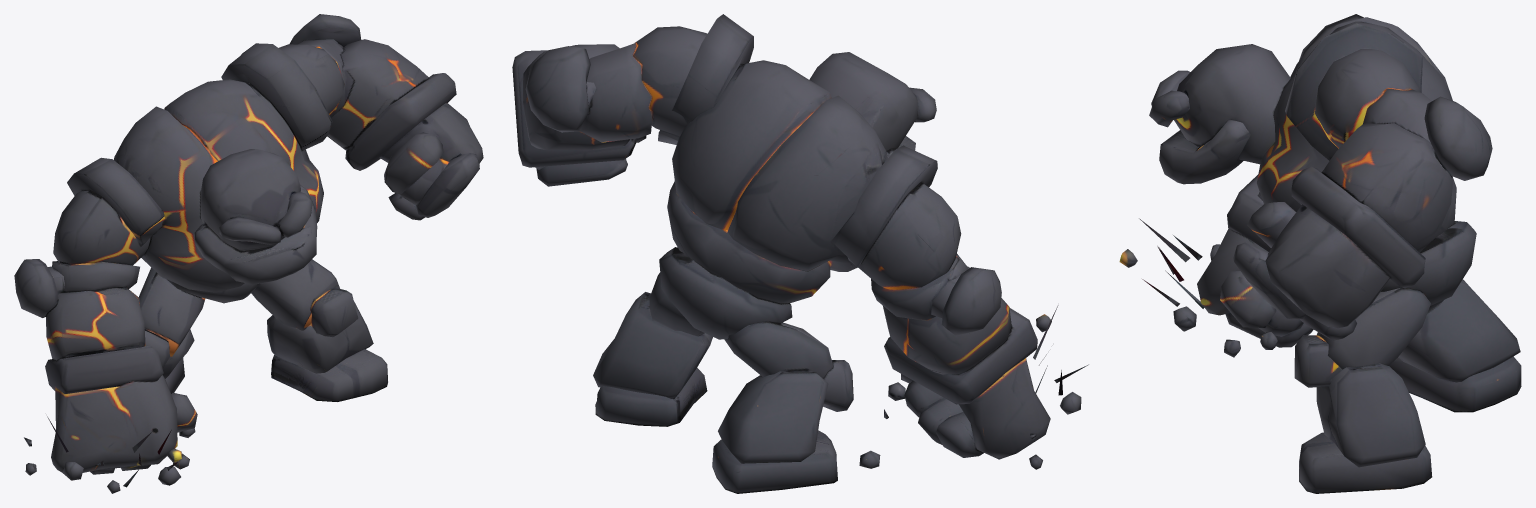
3 renders of one model, left to right at view 1: azimuth 30°, elevation 25°; view 2: azimuth 150°, elevation 25°; view 3: azimuth 270°, elevation 25°, orthographic. The views are drawn at different scales.
Size of the model in its own units: 1 by 0.7595 by 0.6565.
1 material, 1 textured.
